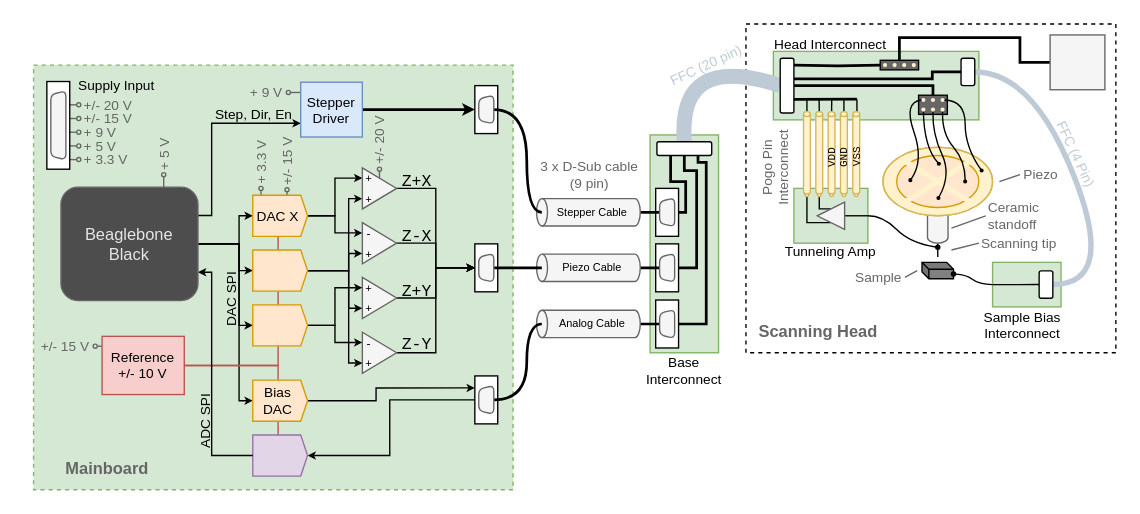
Image size: 1140x514. Some labels were removed from this diagram. Here are the shapes that lost their labels. From the top down, the centre of each, then its label:
At (1077,62): "Stepper Motor".
At (279,270): "DAC Z".
At (279,324): "DAC Y".
At (279,455): "ADC".
